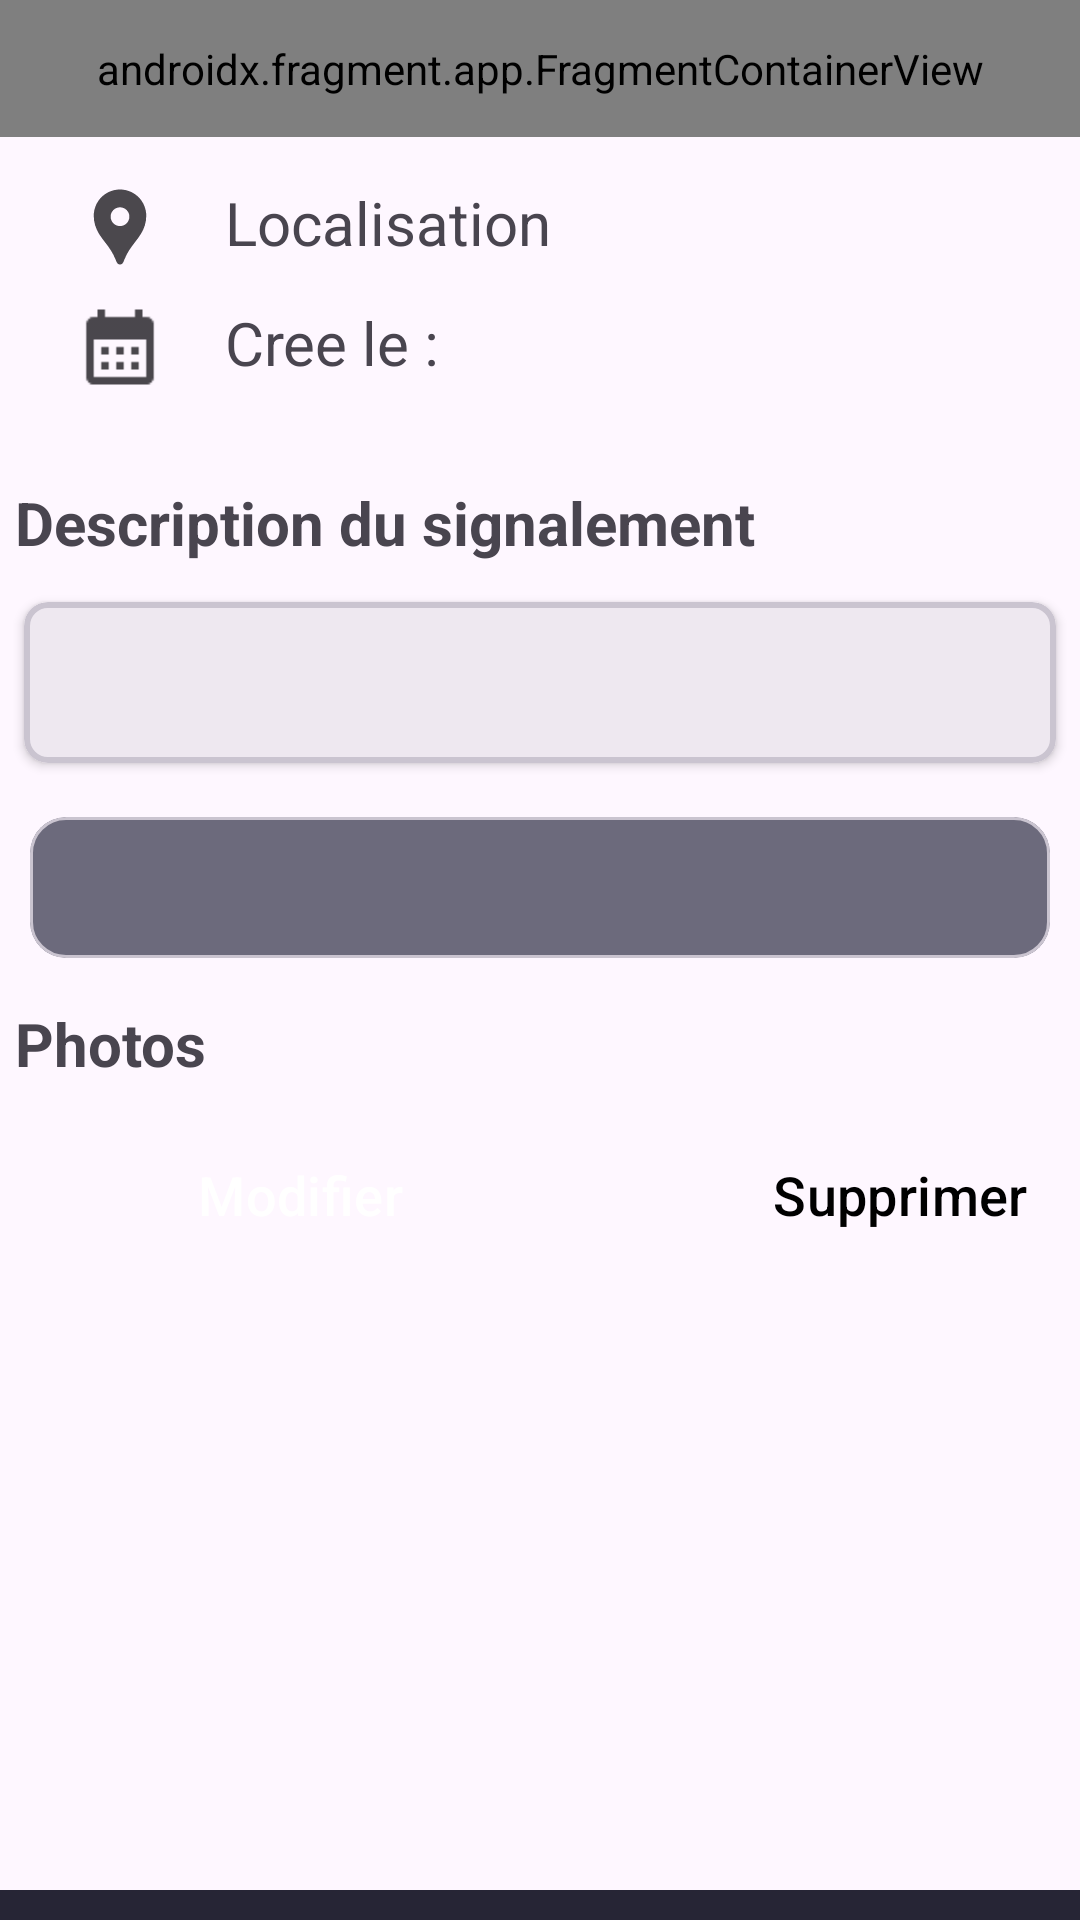

Where to tap for icons on this 1080px×1920px app screen, as (x,y):
Date de creation icon: (120,347)
